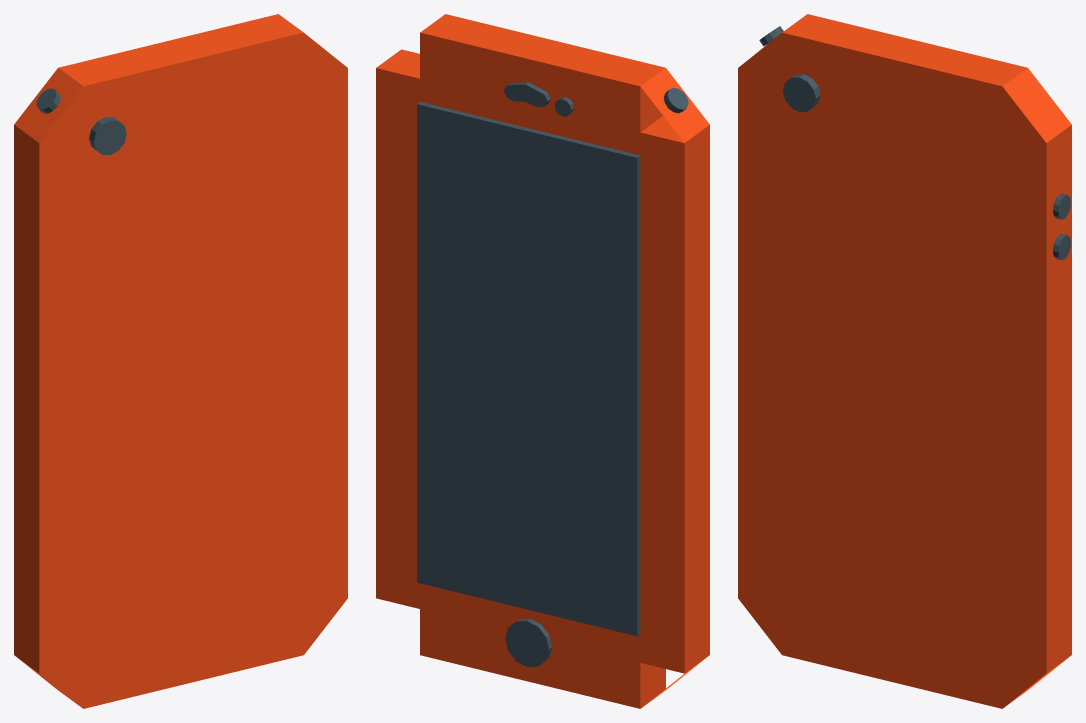
The model's file is Red_Smartphone.glb.
3 renders of one model, left to right at view 1: azimuth 30°, elevation 25°; view 2: azimuth 150°, elevation 25°; view 3: azimuth 330°, elevation 25°, orthographic.
Parts seen in each view (by area): view 1: Node; view 2: Node; view 3: Node.
Part boxes in pixels (<box>): Node: <box>14,14,347,708</box>; Node: <box>376,14,709,708</box>; Node: <box>738,14,1071,708</box>.
Bounding box in the file's own units: 0.57 × 1.08 × 0.105.
